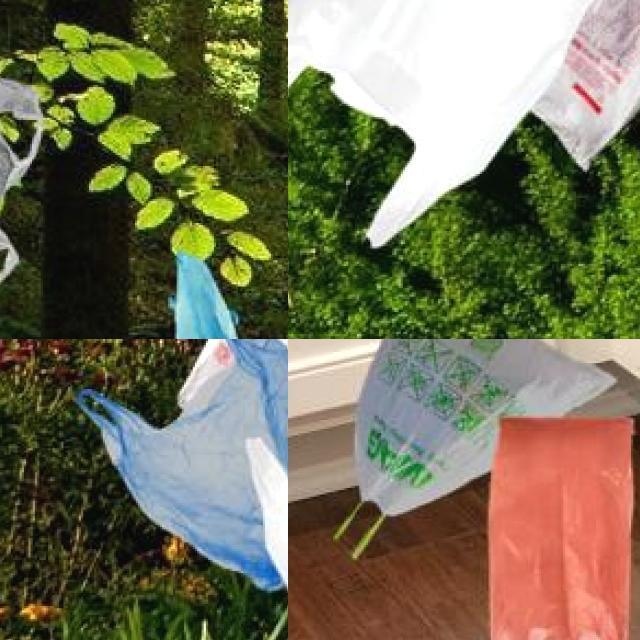waste: (288, 0, 600, 246), (75, 339, 288, 580), (345, 339, 613, 525), (502, 401, 627, 640), (511, 0, 640, 167)
